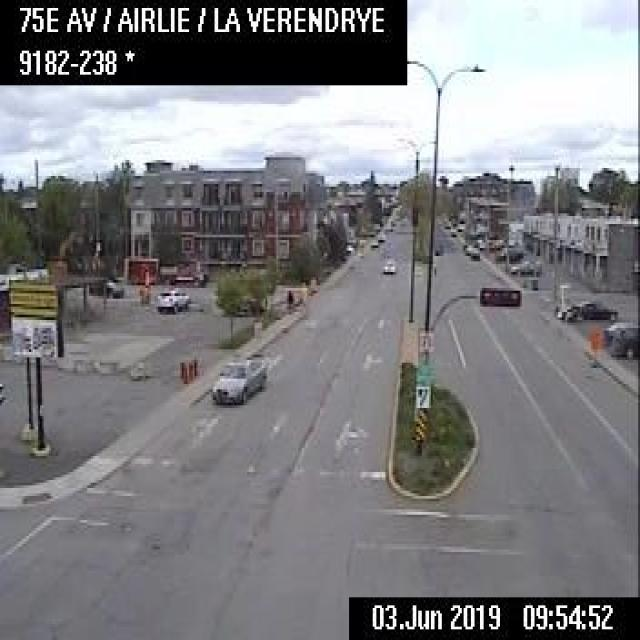construction: (588, 326, 603, 367), (181, 362, 187, 382), (186, 360, 191, 380), (178, 359, 183, 377)
vehicle: (209, 352, 266, 405), (572, 296, 618, 322), (608, 326, 637, 358), (162, 265, 207, 285), (156, 285, 187, 313), (510, 256, 540, 275), (496, 246, 522, 260), (380, 258, 396, 273), (467, 246, 480, 259), (368, 237, 378, 248), (462, 242, 472, 252), (376, 231, 385, 242), (442, 220, 450, 229), (448, 226, 455, 235)
